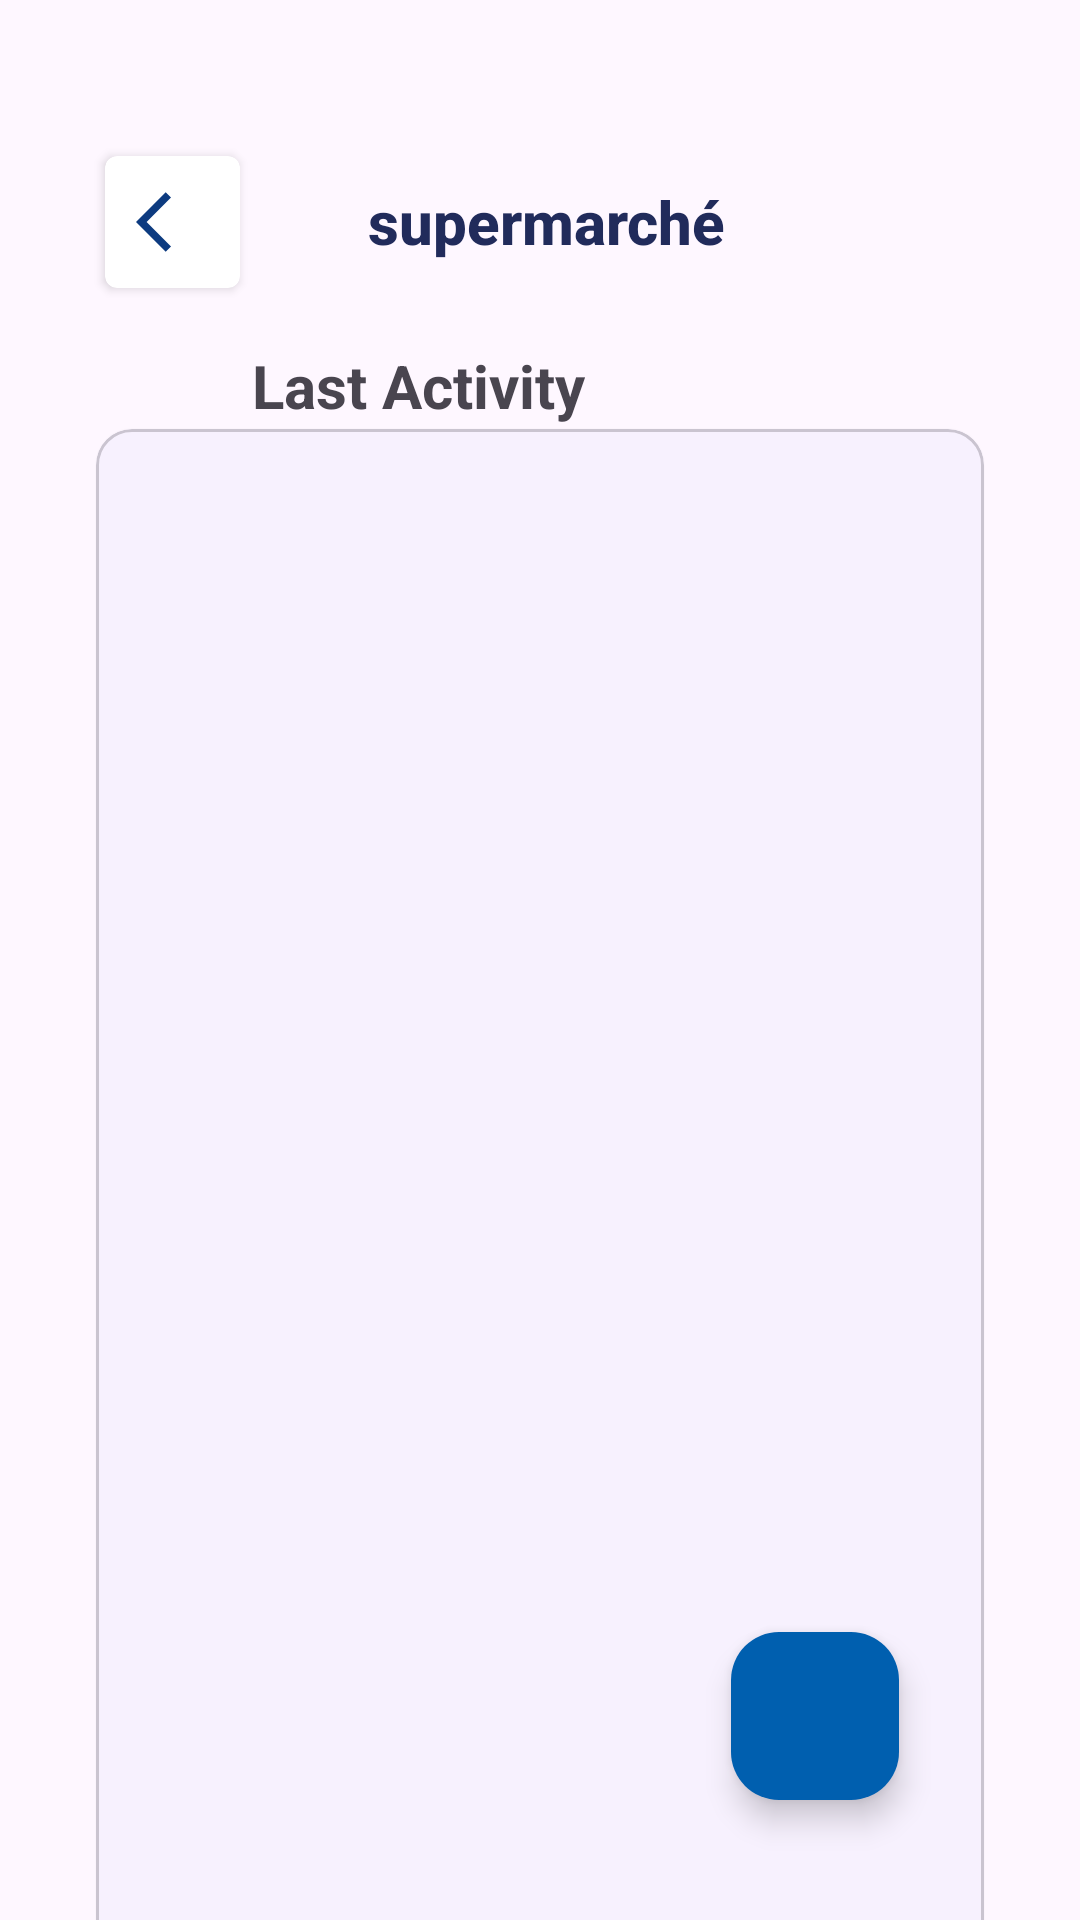

Named icons in this screenshot (1080px x 1920px) and their centers, point (x, y):
Back: point (153, 222)
